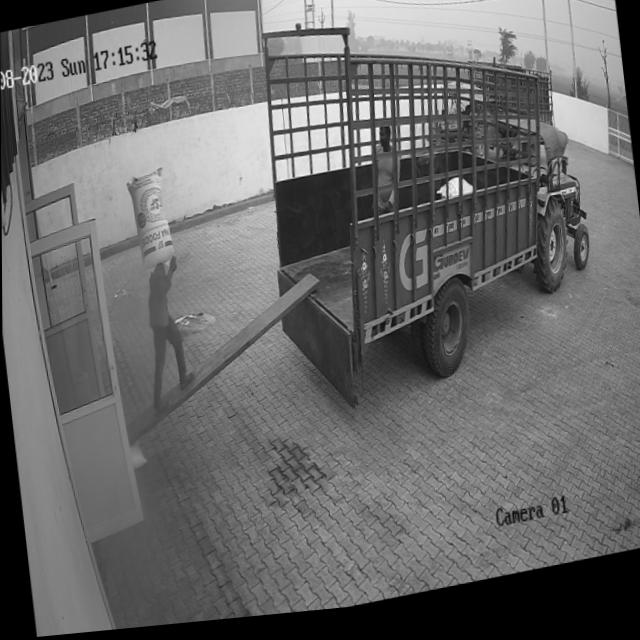sack: (125, 168, 174, 275)
